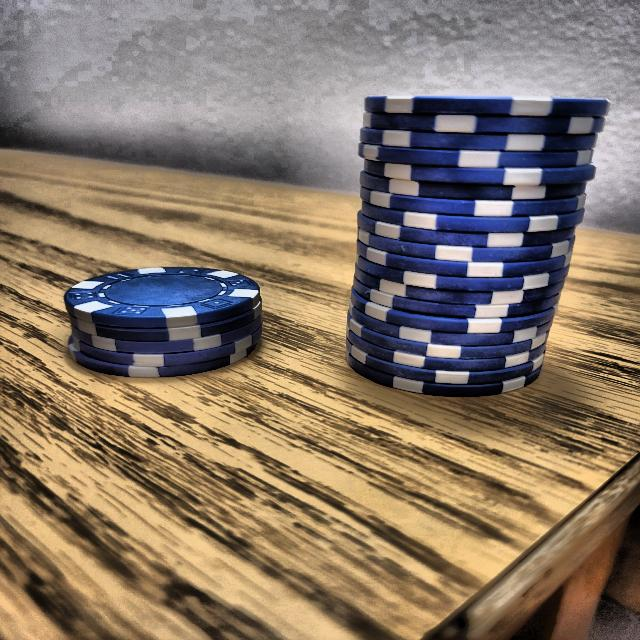Chip: (330, 85, 606, 402), (67, 253, 265, 388)
